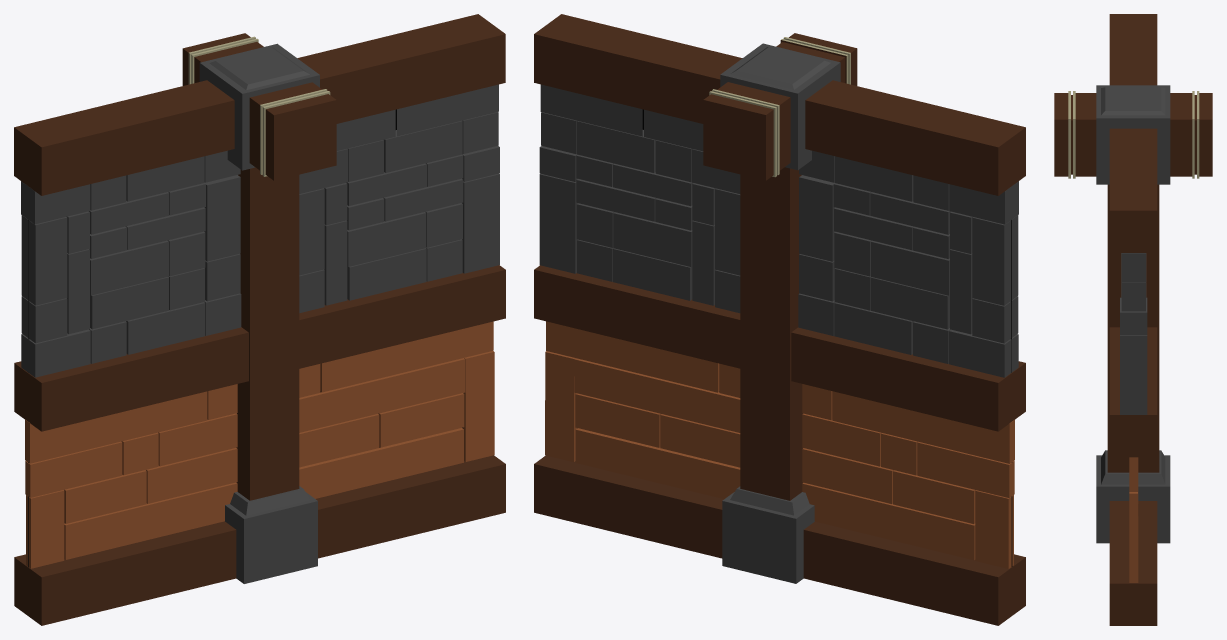
The model's file is muro_2dangeon.fbx.
The picture shows the model from 3 angles, left to right: view 1: azimuth 30°, elevation 25°; view 2: azimuth 150°, elevation 25°; view 3: azimuth 270°, elevation 25°; orthographic projection. The views are drawn at different scales.
Parts seen in each view (by area): view 1: Cube; view 2: Cube; view 3: Cube.
Boxes of the visible parts, left/top/right/bottom form: Cube: left=14, top=14, right=505, bottom=625; Cube: left=534, top=14, right=1025, bottom=625; Cube: left=1054, top=14, right=1212, bottom=625.
Bounding box in the file's own units: 602 × 611 × 205.
